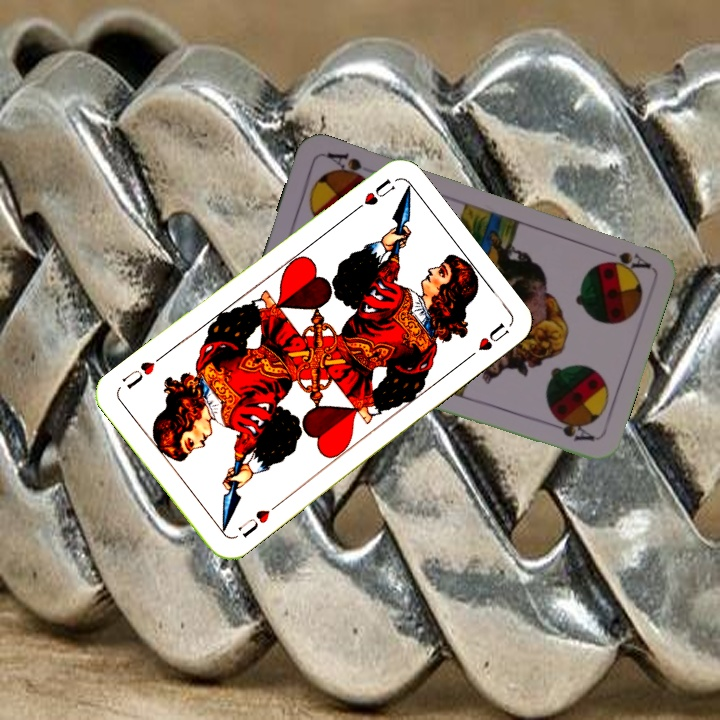HU: (347, 174, 398, 217), (234, 505, 273, 540)
SA: (601, 248, 653, 272)
